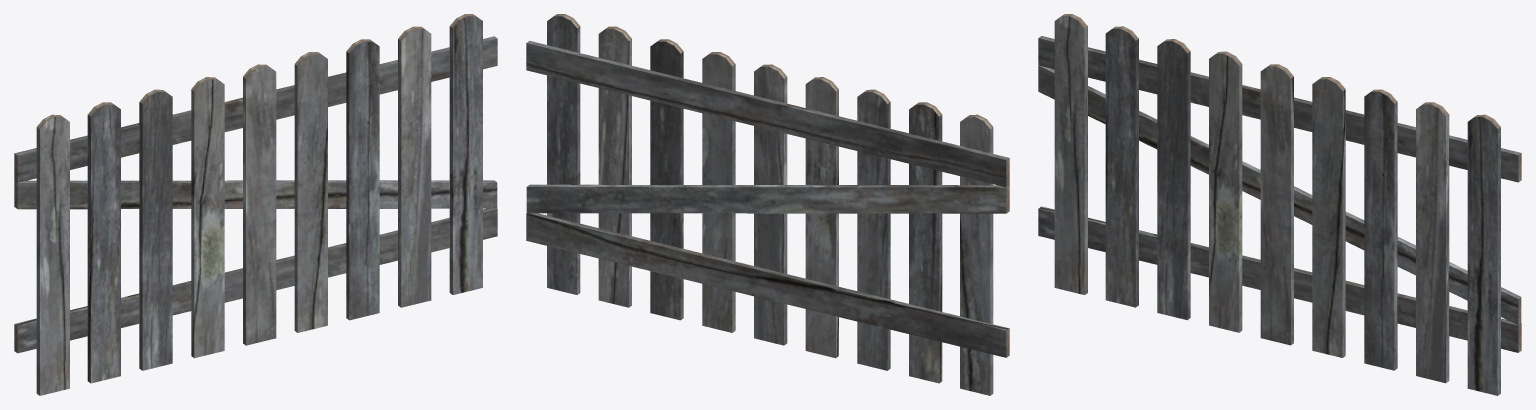
The model's file is fence_grey.glb.
3 views of the same model, side by side, from view 1: azimuth 30°, elevation 25°; view 2: azimuth 150°, elevation 25°; view 3: azimuth 330°, elevation 25° (orthographic).
Visible parts, largest first — view 1: fence_grey; view 2: fence_grey; view 3: fence_grey.
Boxes of the visible parts, left/top/right/bottom form: fence_grey: left=14, top=14, right=497, bottom=395; fence_grey: left=526, top=14, right=1009, bottom=395; fence_grey: left=1038, top=14, right=1521, bottom=395.
Size of the model in its own units: 2 by 1.1 by 0.0449.
Materials: 1 (1 with a texture image).
